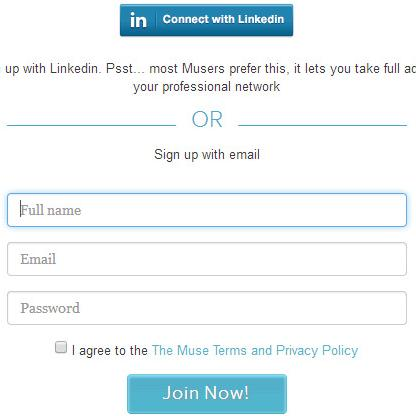button: (126, 372, 288, 415), (118, 3, 295, 38)
checkbox: (54, 341, 69, 354)
checkbox_with_label: (52, 339, 357, 358)
field: (6, 290, 408, 326), (6, 241, 407, 277), (6, 192, 407, 227)
